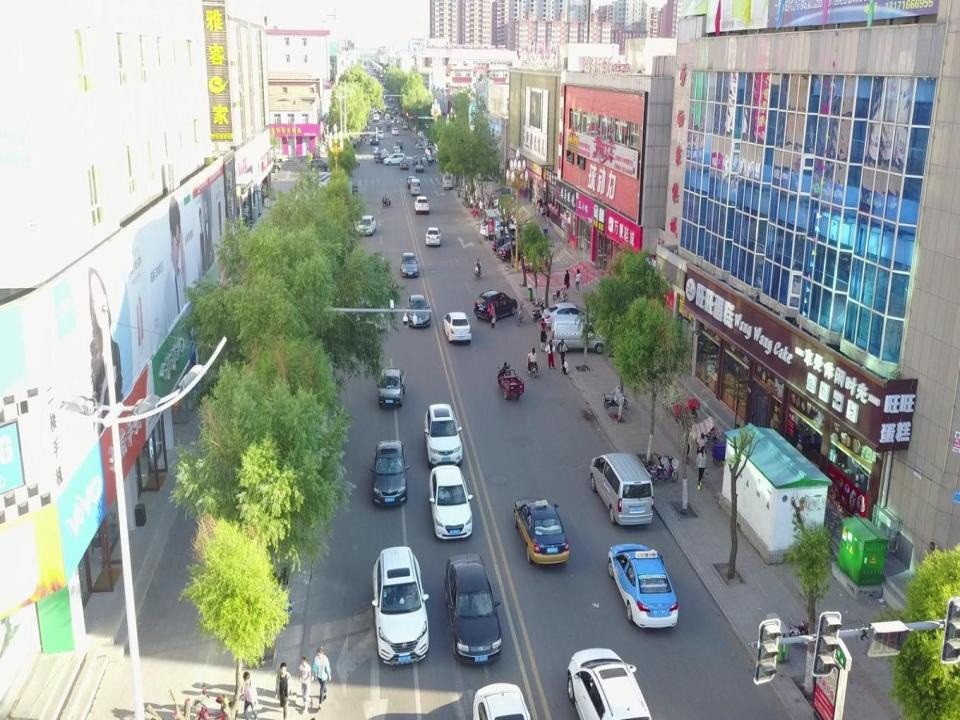car: (371, 546, 429, 665), (444, 552, 503, 664), (607, 542, 680, 630), (566, 648, 655, 720), (514, 496, 570, 566), (428, 464, 473, 540), (369, 439, 410, 507), (423, 402, 463, 467), (542, 302, 595, 330), (473, 288, 517, 321), (443, 312, 472, 344), (479, 219, 520, 240), (407, 294, 431, 326), (496, 240, 532, 261), (492, 234, 525, 253), (399, 252, 419, 278), (357, 216, 376, 236), (425, 226, 441, 246), (308, 158, 332, 171), (383, 152, 405, 166), (414, 195, 430, 214), (337, 157, 360, 168), (375, 152, 389, 164), (412, 154, 423, 166), (406, 175, 416, 187), (400, 158, 410, 170), (370, 135, 380, 145), (392, 146, 401, 155), (391, 127, 399, 136), (372, 113, 379, 121), (377, 132, 384, 139)
truck: (376, 365, 407, 409), (415, 158, 424, 172)
van: (588, 452, 654, 527), (550, 315, 606, 354), (491, 186, 515, 204), (410, 178, 422, 197), (443, 173, 453, 190), (376, 122, 384, 133), (395, 140, 403, 150)
